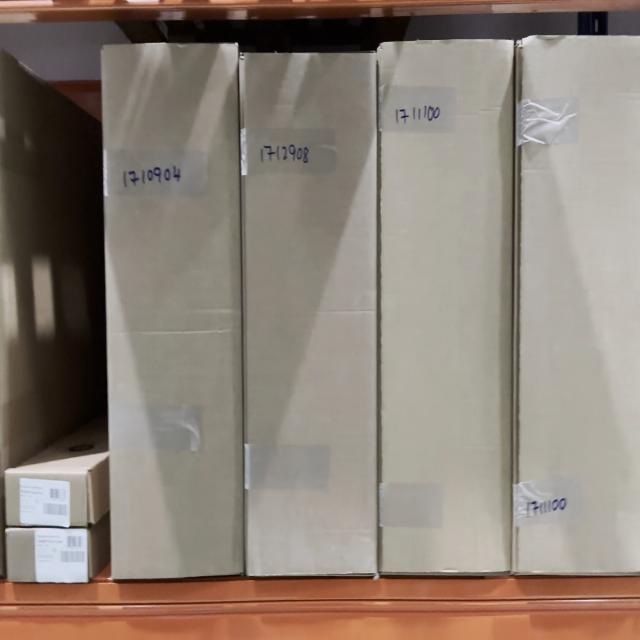box: (109, 50, 240, 575), (380, 46, 511, 570), (244, 59, 375, 571), (4, 527, 90, 582), (2, 476, 87, 525)
